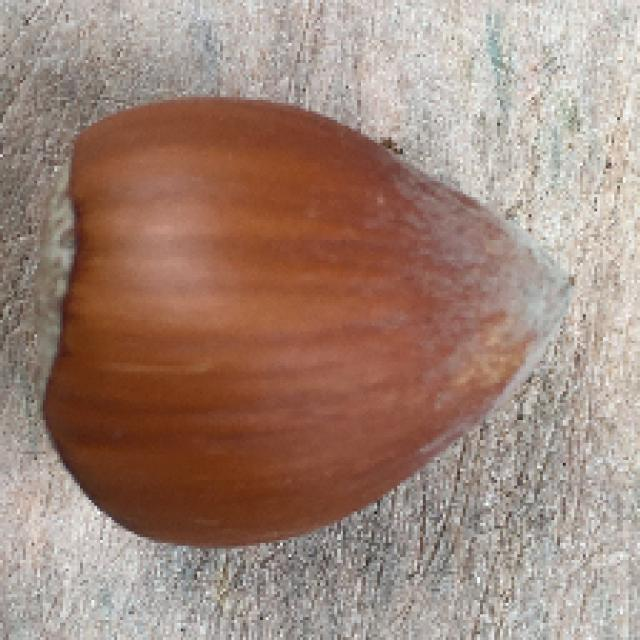qualityHazelnut: (13, 88, 576, 552)
